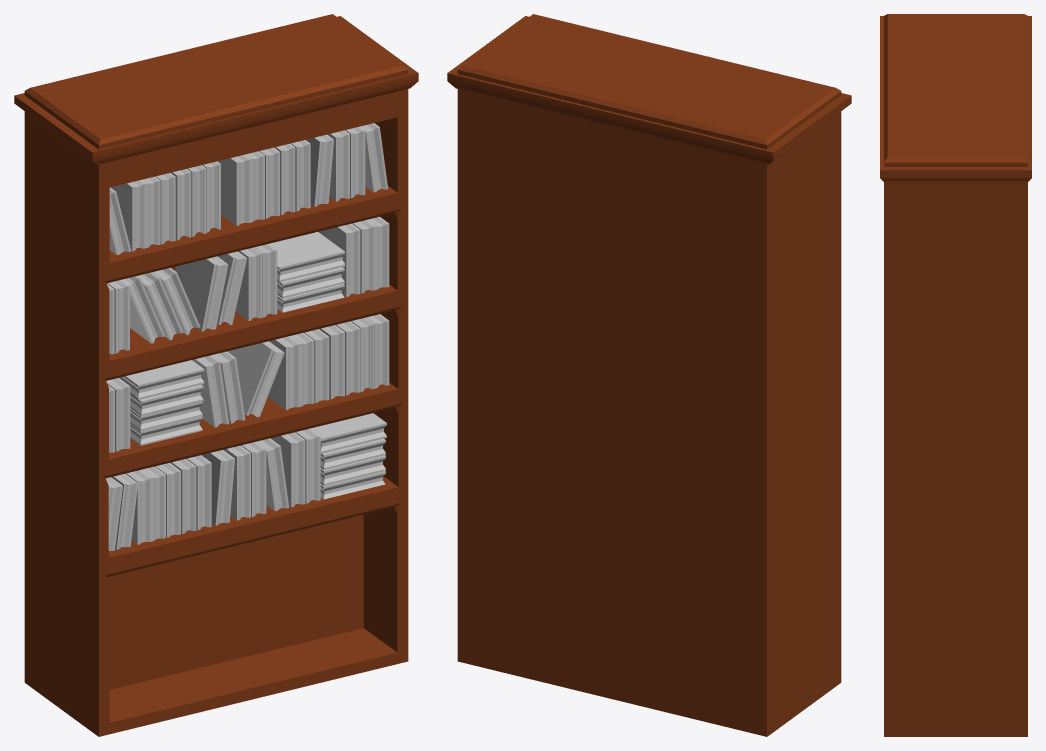
The model's file is Bookself.fbx.
3 views of the same model, side by side, from view 1: azimuth 30°, elevation 25°; view 2: azimuth 150°, elevation 25°; view 3: azimuth 270°, elevation 25° (orthographic). The views are drawn at different scales.
Visible parts, largest first — view 1: Cube.004, Cube.035 (×4); view 2: Cube.004; view 3: Cube.004.
Part boxes in pixels (x1=…): Cube.004: x1=14, y1=14, x2=418, y2=736; Cube.035 (×4): x1=106, y1=123, x2=389, y2=550; Cube.004: x1=447, y1=14, x2=851, y2=736; Cube.004: x1=880, y1=14, x2=1031, y2=736.
Bounding box in the file's own units: 135 × 235 × 56.01.
